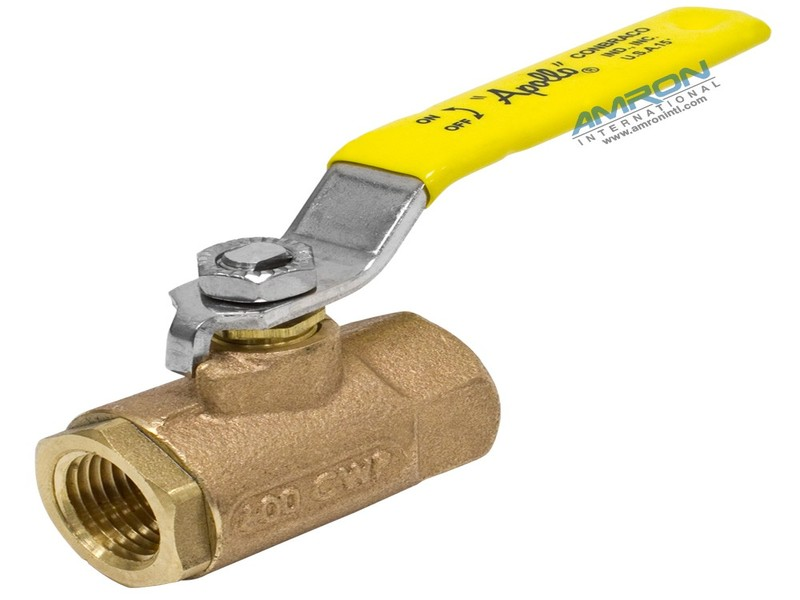valve: (11, 21, 800, 587)
